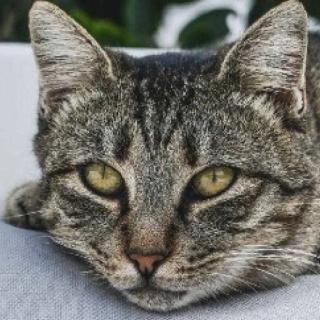cat: (24, 0, 311, 319)
nose: (124, 212, 178, 283)
